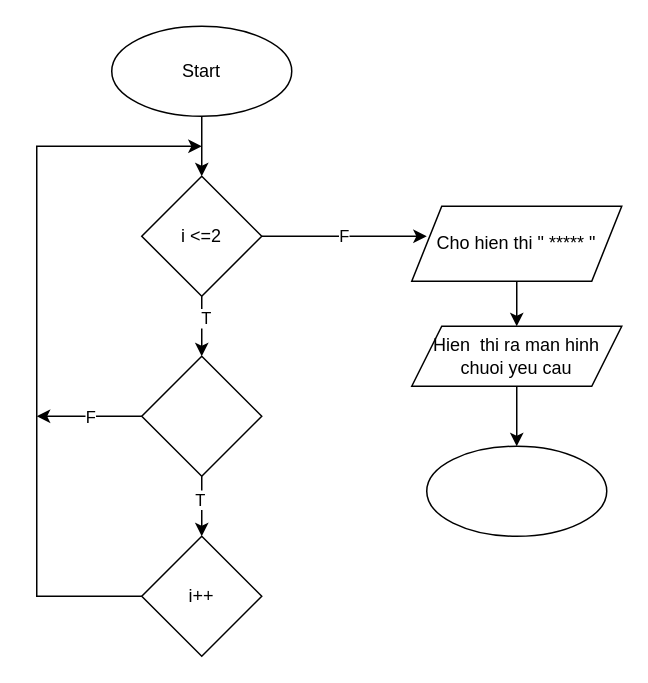
The diagram is 648 pixels wide and 683 high, and some of its shapes have lost their labels. The centre of each missing label's shape, as x and y in pixels:
End: [516,490]
i =1: [201,415]
